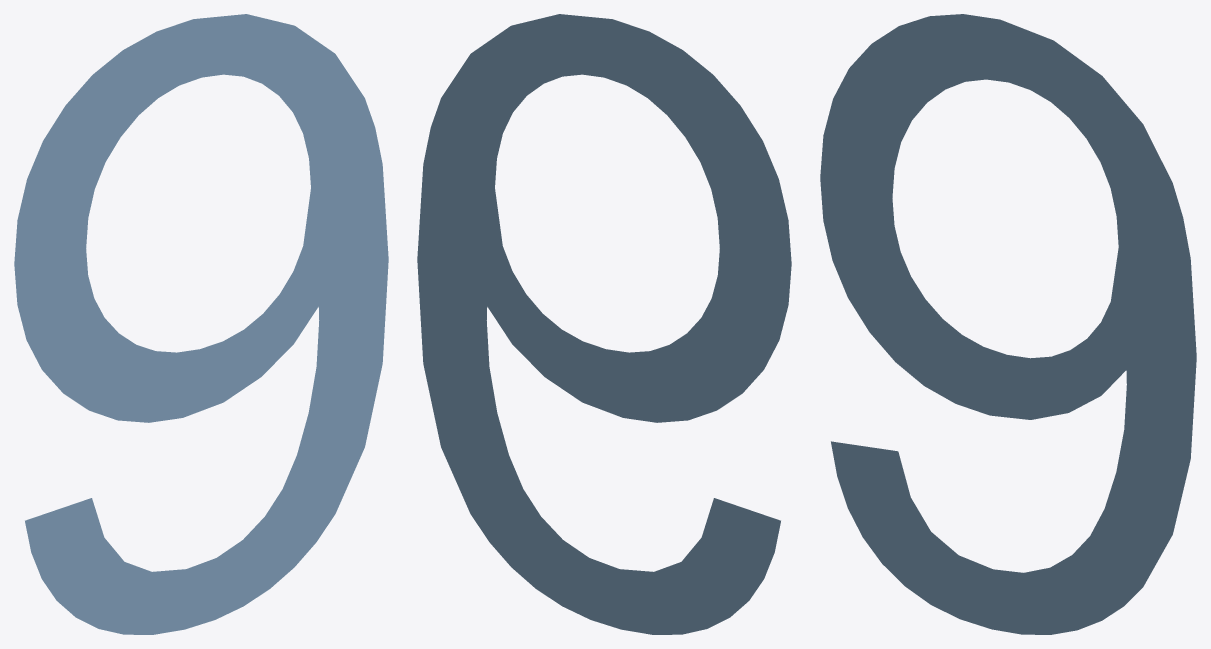
File: original-97.obj
3 views of the same model, side by side, from view 1: azimuth 30°, elevation 25°; view 2: azimuth 150°, elevation 25°; view 3: azimuth 330°, elevation 25° (orthographic).
Parts seen in each view (by area): view 1: instance_11/_9/ID277#ID277; view 2: instance_11/_9/ID277#ID277; view 3: instance_11/_9/ID277#ID277.
Part boxes in pixels (x1=…): instance_11/_9/ID277#ID277: x1=14, y1=14, x2=388, y2=634; instance_11/_9/ID277#ID277: x1=417, y1=14, x2=791, y2=634; instance_11/_9/ID277#ID277: x1=820, y1=14, x2=1196, y2=634.
Bounding box in the file's own units: 0.0106 × 0.0164 × 0.
